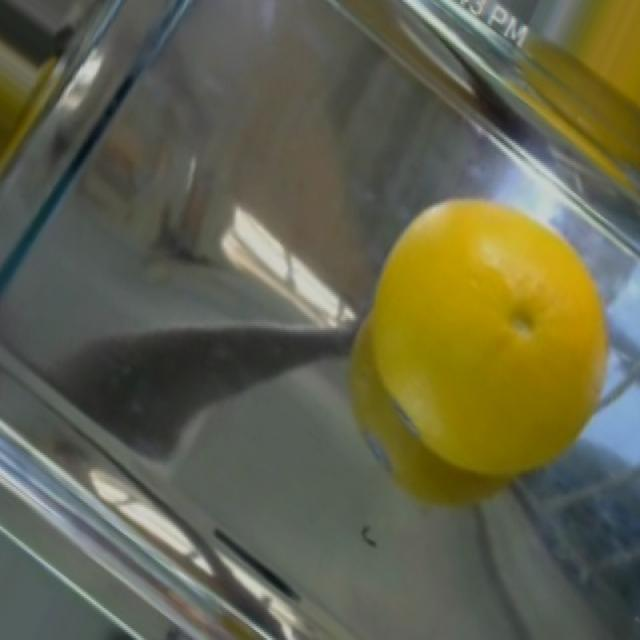Fruit: (345, 181, 624, 525)
